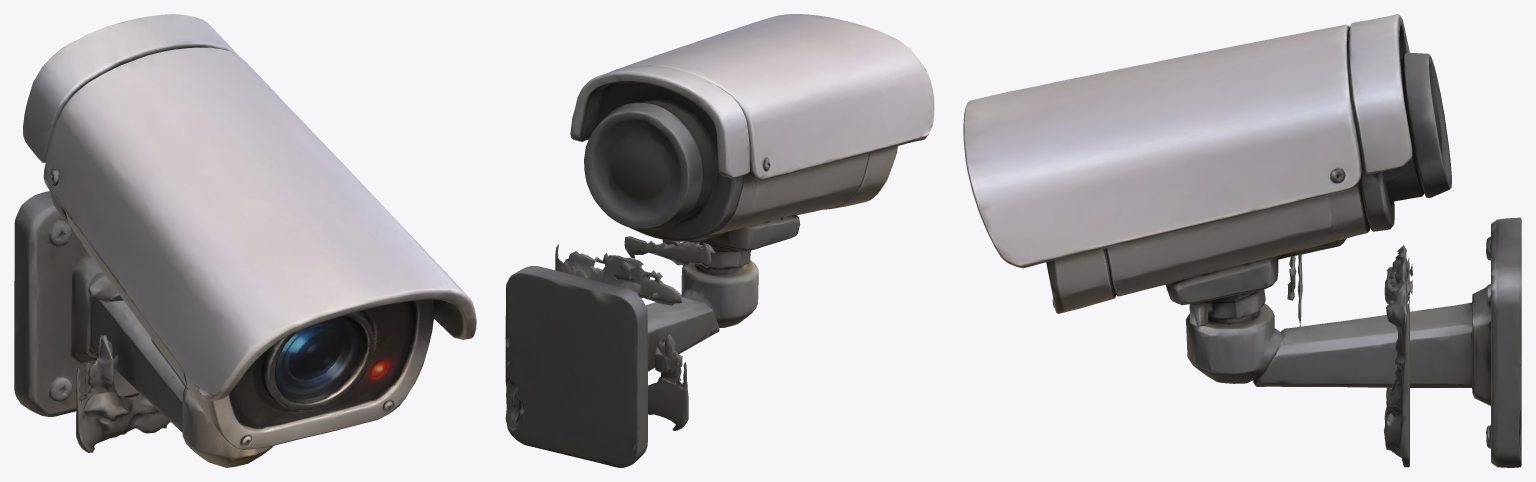
The model's file is owned-optical-projector.glb.
3 views of the same model, side by side, from view 1: azimuth 30°, elevation 25°; view 2: azimuth 150°, elevation 25°; view 3: azimuth 270°, elevation 25° (orthographic). The views are drawn at different scales.
Visible parts, largest first — view 1: tripo_node_d6880a4f-55d8-43a0-8f9b-a1febb6ed8a1; view 2: tripo_node_d6880a4f-55d8-43a0-8f9b-a1febb6ed8a1; view 3: tripo_node_d6880a4f-55d8-43a0-8f9b-a1febb6ed8a1.
Part boxes in pixels (box(x1,y1,x2,y2)): tripo_node_d6880a4f-55d8-43a0-8f9b-a1febb6ed8a1: box(14, 14, 476, 467); tripo_node_d6880a4f-55d8-43a0-8f9b-a1febb6ed8a1: box(505, 14, 934, 467); tripo_node_d6880a4f-55d8-43a0-8f9b-a1febb6ed8a1: box(963, 14, 1521, 467).
Size of the model in its own units: 0.5005 by 0.7786 by 1.
Materials: 1 (1 with a texture image).
